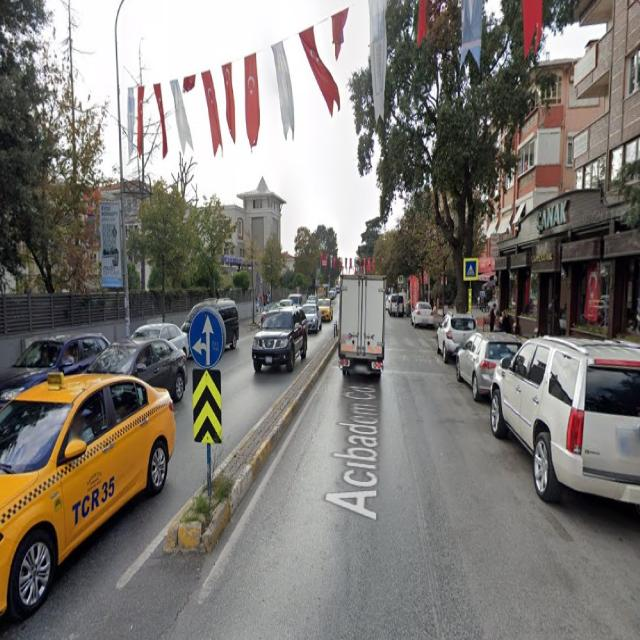ilerisol: (189, 313, 222, 367)
